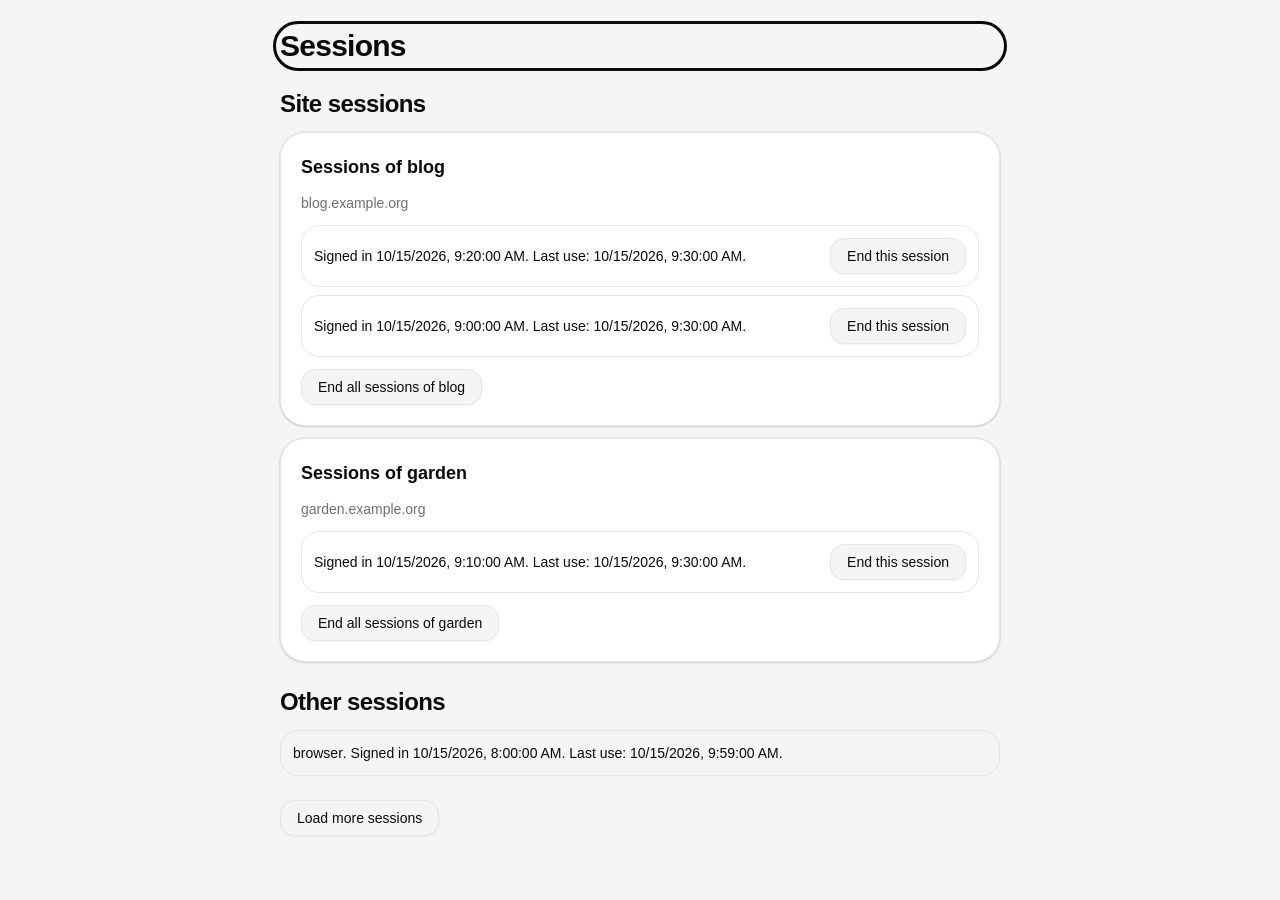
Test: the session list after a revocation › revoke_keeps_the_loaded_pages_and_counts
(page scrolled)
Click the button "Load more sessions".
click(360, 818)  # box [280,800,439,836]
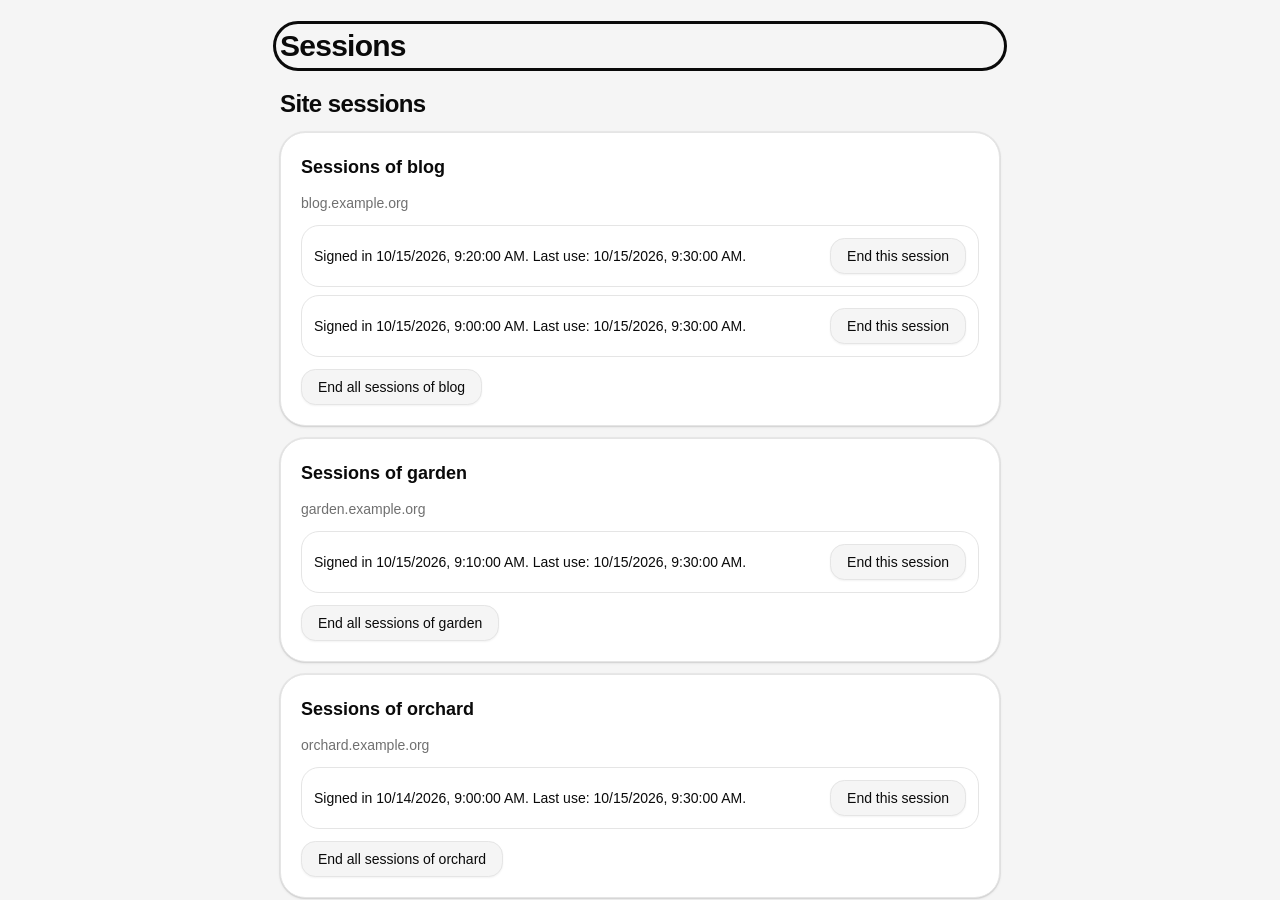
Click the button "End all sessions of blog".
click(392, 387)  # box [301,369,482,405]
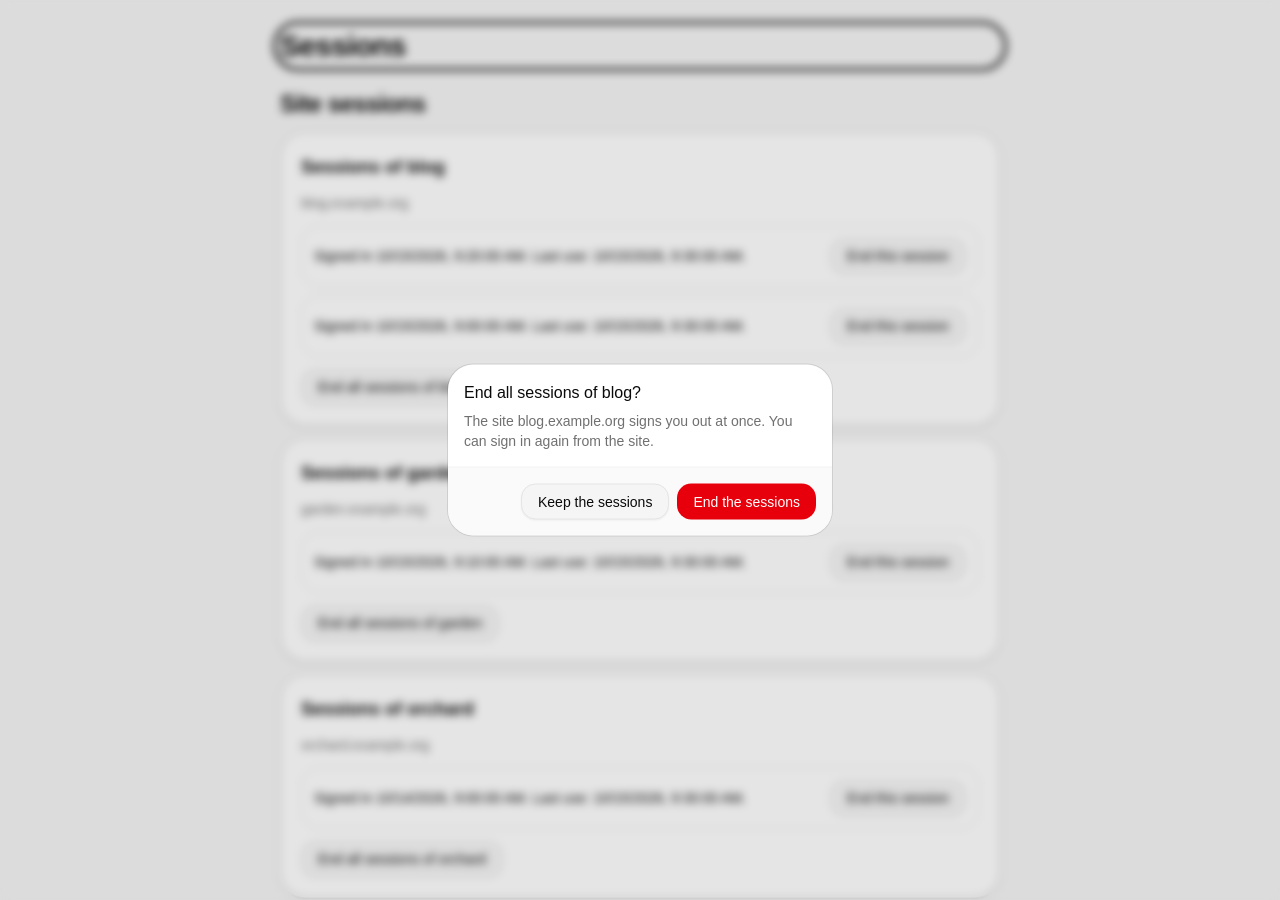
Click the button "End the sessions".
click(747, 502)  # box [677,484,816,520]
(page scrolled)
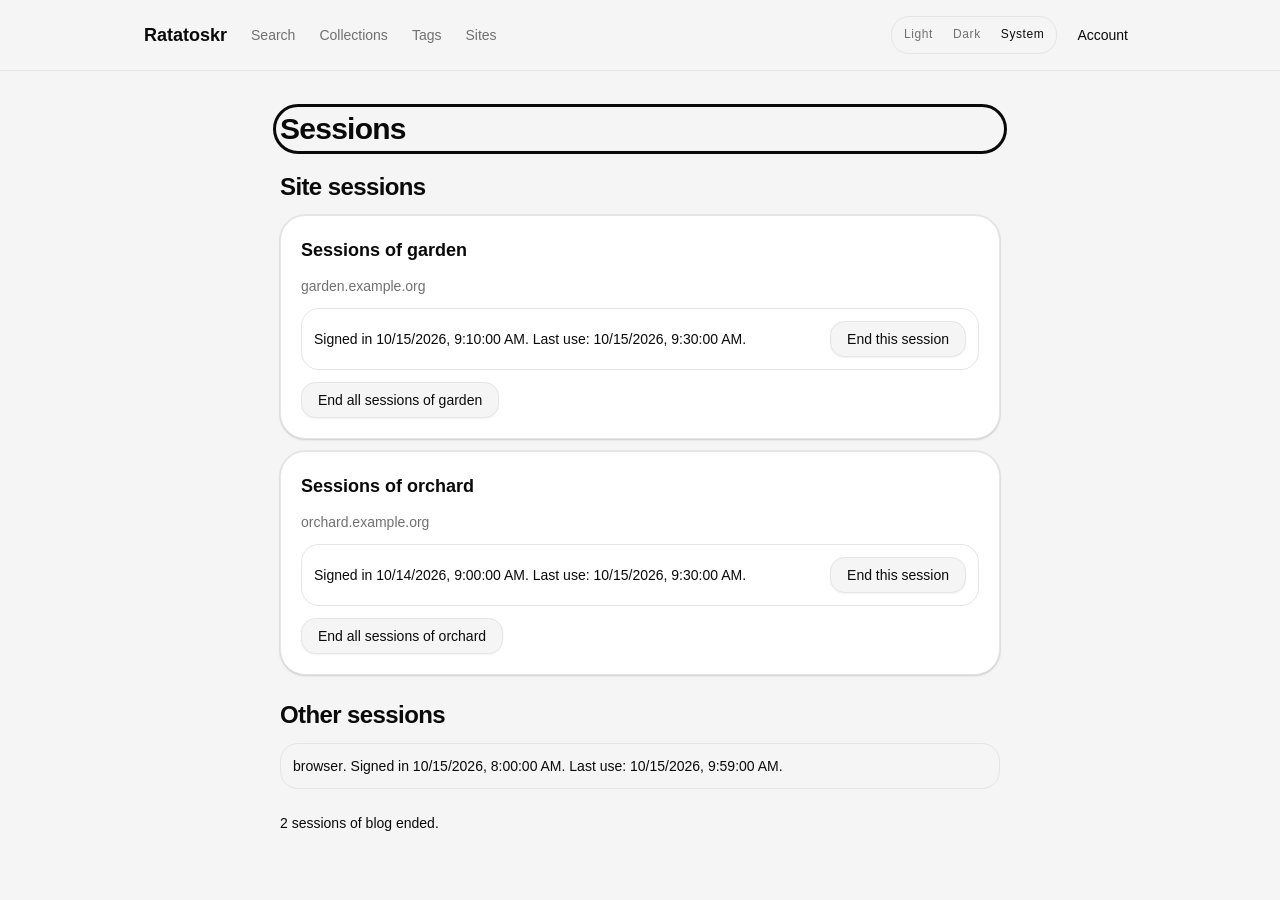
Now the element "Sessions of orchard" is shown, box [280,451,1000,675]
Now the text "2 sessions of blog ended." is shown, box [280,815,439,831]
